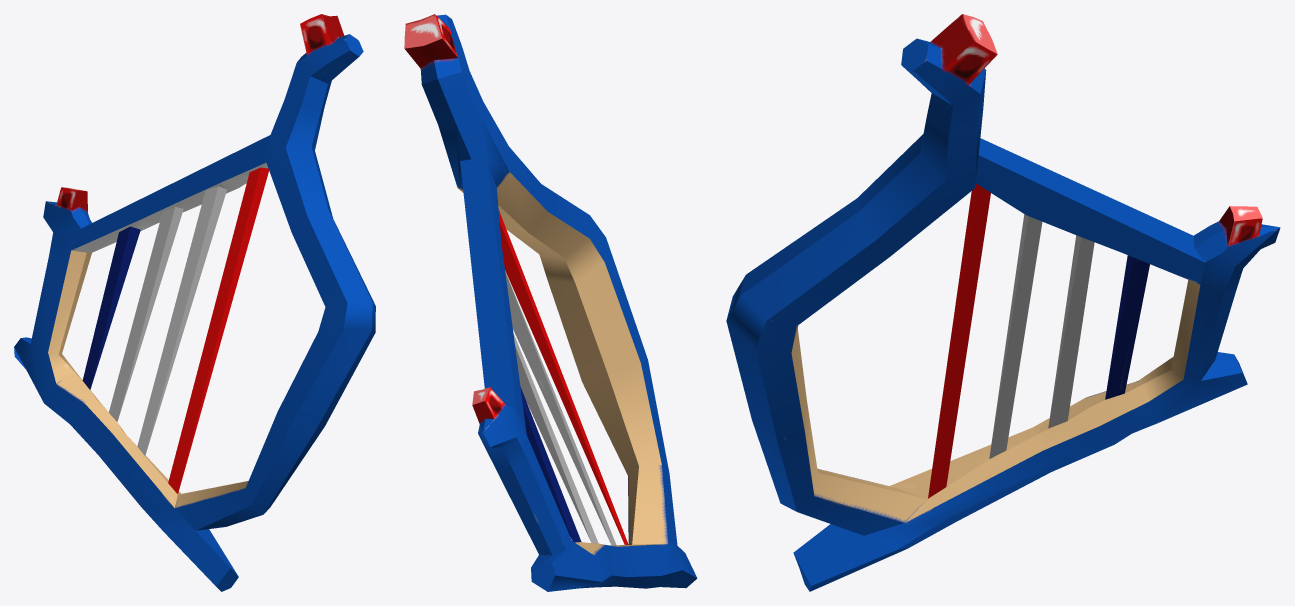
File: Arpa2_000017.obj
3 renders of one model, left to right at view 1: azimuth 30°, elevation 25°; view 2: azimuth 150°, elevation 25°; view 3: azimuth 270°, elevation 25°, orthographic. The views are drawn at different scales.
Parts seen in each view (by area): view 1: a2_Arpa_1:pCube7; view 2: a2_Arpa_1:pCube7; view 3: a2_Arpa_1:pCube7.
Part boxes in pixels (bbox=[...]): a2_Arpa_1:pCube7: bbox=[14, 14, 375, 591]; a2_Arpa_1:pCube7: bbox=[404, 14, 697, 591]; a2_Arpa_1:pCube7: bbox=[726, 14, 1280, 591].
Bounding box in the file's own units: 4.04 × 8.18 × 6.09.
